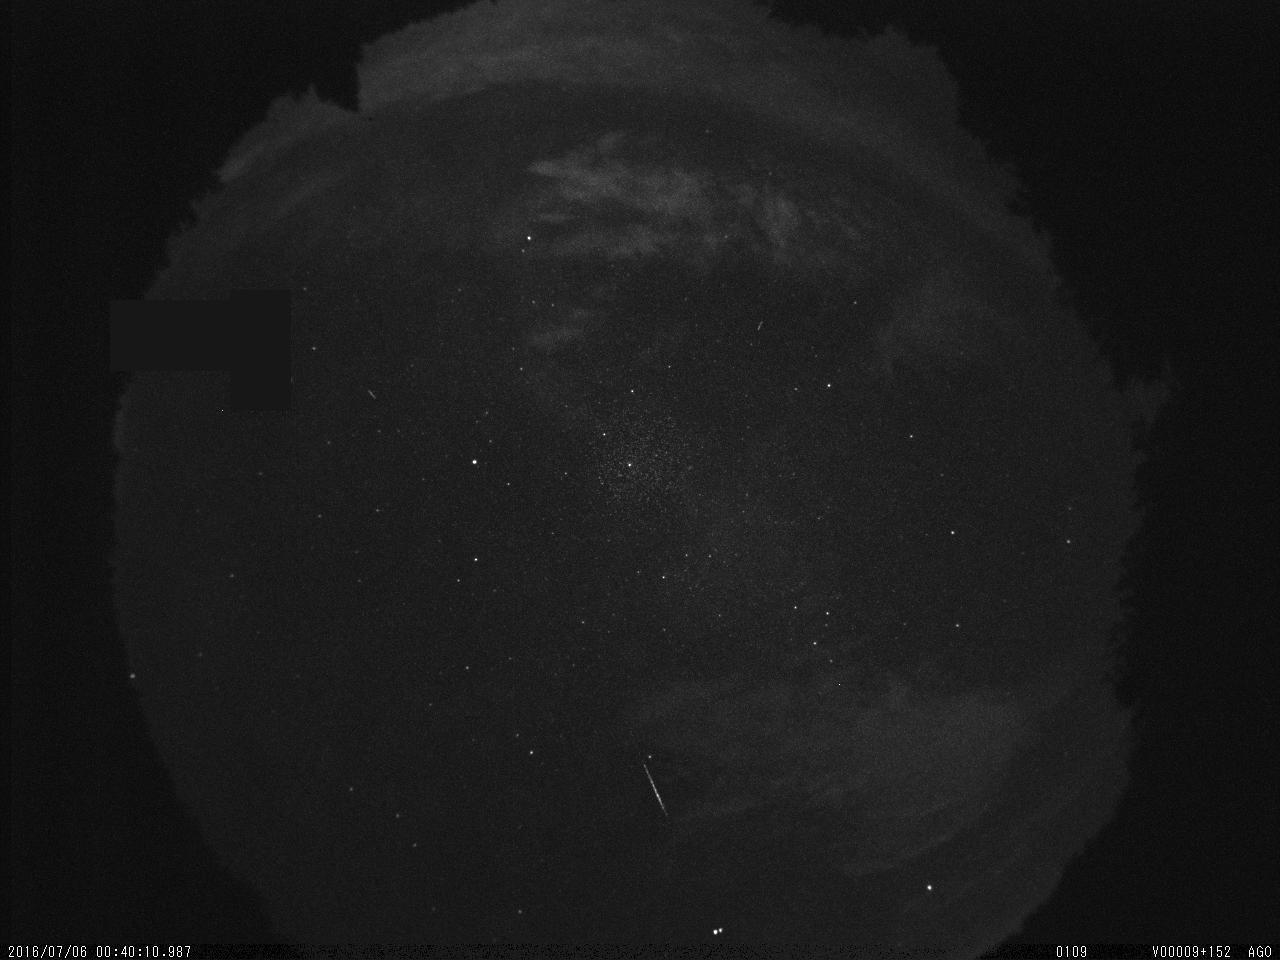meteor: (624, 754, 675, 821)
